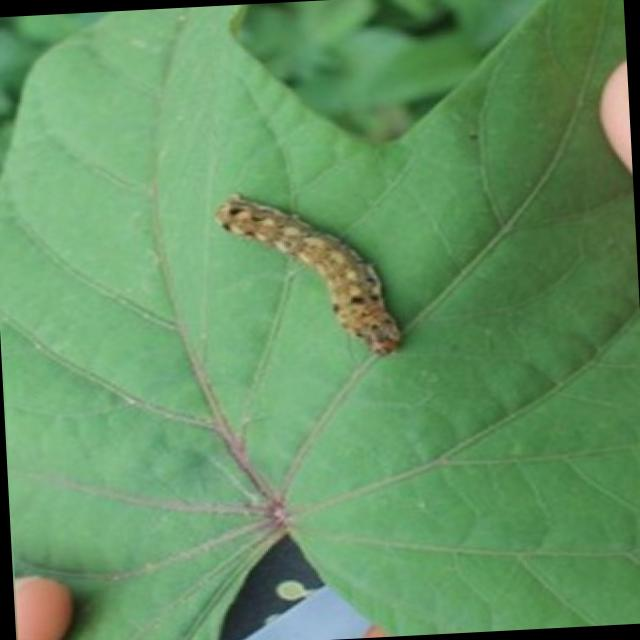Armyworm: (182, 168, 462, 376)
